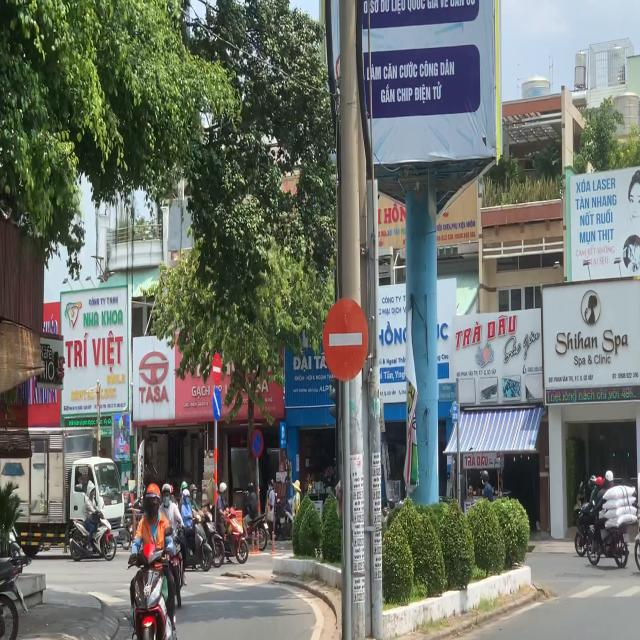Cam do: (250, 429, 264, 458)
Cam nguoc chieu: (320, 294, 370, 386), (212, 352, 222, 386)
Hieu lenh: (212, 387, 221, 420)
